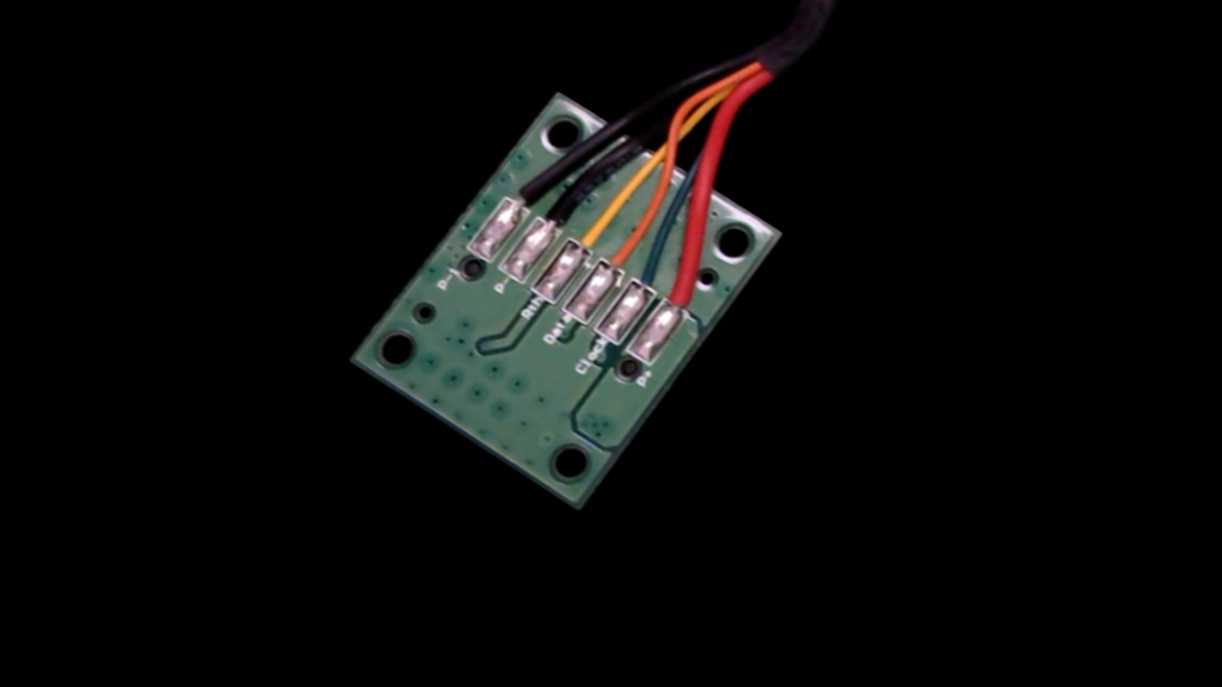Black: (527, 176, 593, 245)
Black1: (492, 153, 564, 225)
Green: (618, 245, 683, 309)
Orange: (588, 217, 656, 287)
Red: (651, 256, 721, 330)
Yellow: (554, 189, 632, 267)
